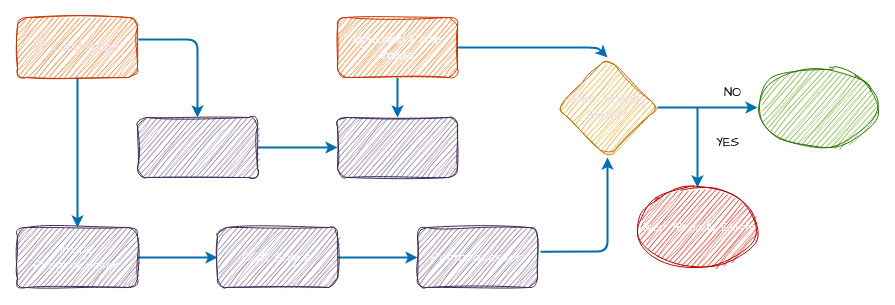
The diagram is 895 pixels wide and 305 high, and some of its shapes have lost their labels. The shapes that lost their labels are listed below. From the top down, each one's box as (x1, y1, x2, y2) in pixels, then its label:
(756, 66, 878, 148): Register User
(136, 116, 258, 178): Extract Face
(336, 116, 458, 178): Face Comparison
